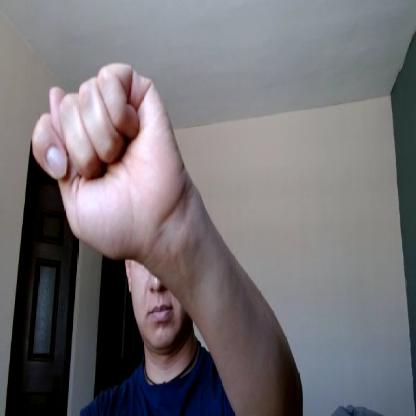T: (29, 59, 176, 262)
